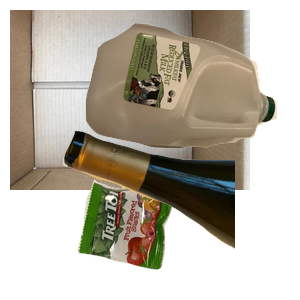cardboard: (10, 10, 250, 190)
glass: (60, 128, 300, 300)
plastic: (83, 21, 300, 162)
trash: (75, 156, 244, 300)
